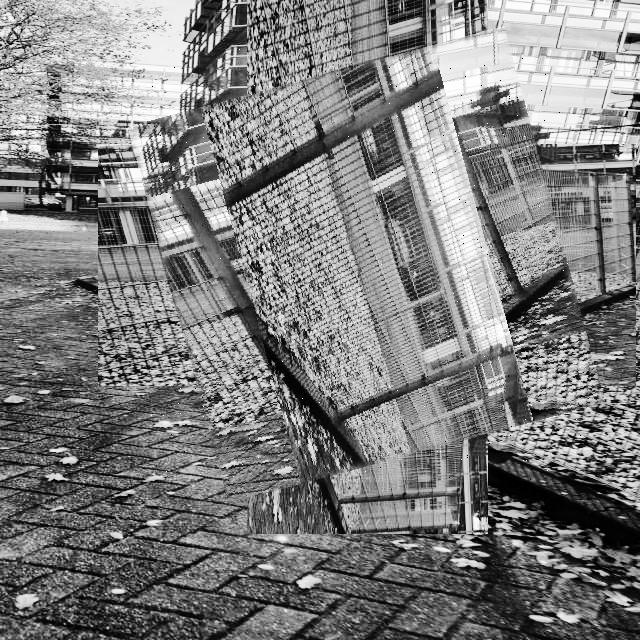fences: (150, 48, 584, 482)
